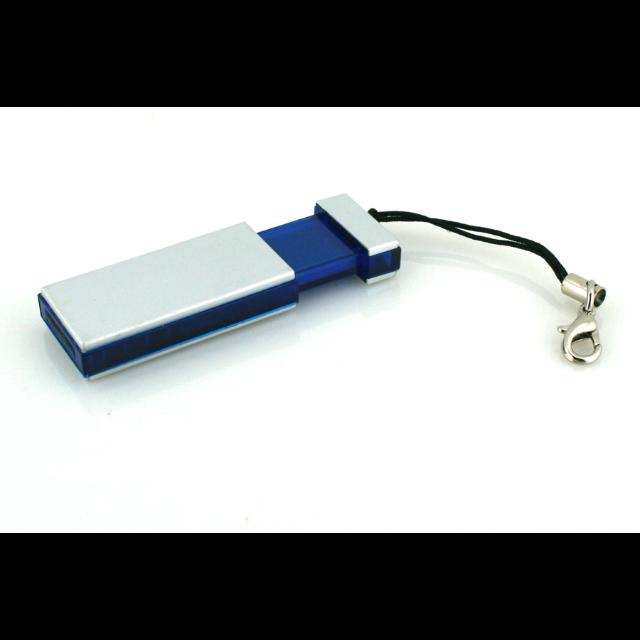USB-Flash-Drive: (36, 173, 404, 387)
